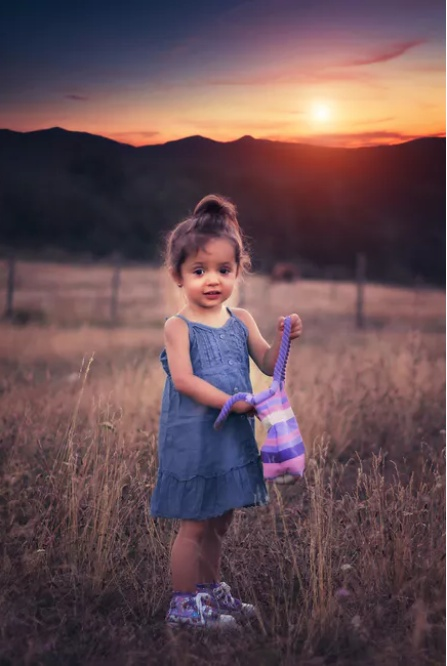face: (181, 240, 237, 308)
